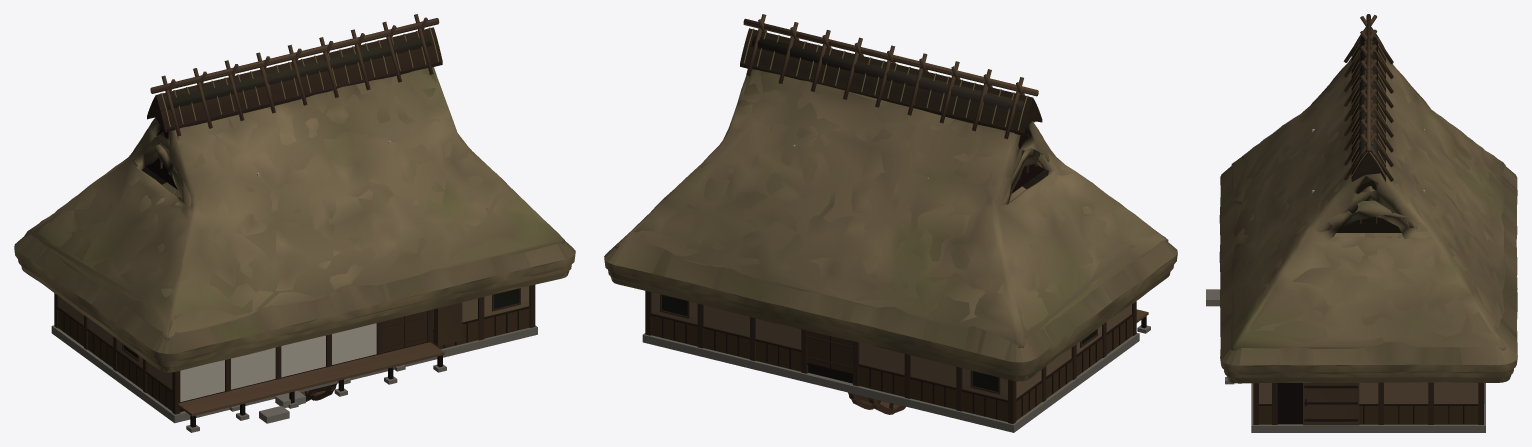
Rendered from village.glb.
The picture shows the model from 3 angles, left to right: view 1: azimuth 30°, elevation 25°; view 2: azimuth 150°, elevation 25°; view 3: azimuth 270°, elevation 25°; orthographic projection. The views are drawn at different scales.
Parts seen in each view (by area): view 1: minka0, minka0_far, minka1_far, minka1; view 2: minka0, minka0_far; view 3: minka0, minka0_far.
Boxes of the visible parts, bbox=[...] form: minka0: bbox=[14, 14, 575, 432]; minka0_far: bbox=[16, 21, 569, 423]; minka1_far: bbox=[175, 189, 402, 392]; minka1: bbox=[162, 182, 405, 411]; minka0: bbox=[604, 14, 1177, 423]; minka0_far: bbox=[605, 22, 1175, 432]; minka0: bbox=[1206, 14, 1517, 432]; minka0_far: bbox=[1219, 34, 1517, 425].
Size of the model in its own units: 14.82 by 11.82 by 9.97.
